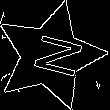N_W: (19, 30, 81, 82)
